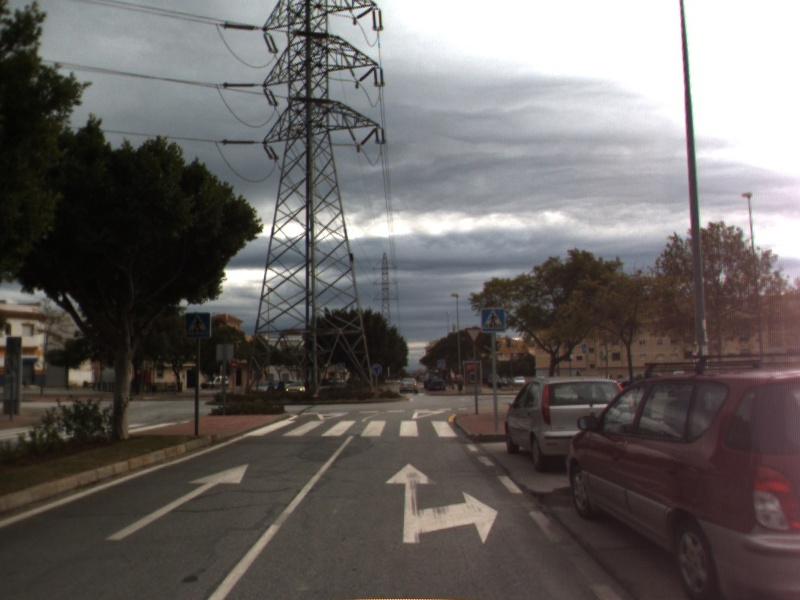STRAIGHT: (103, 462, 251, 543)
STRAIGHT_RIGHT: (383, 460, 501, 546)
